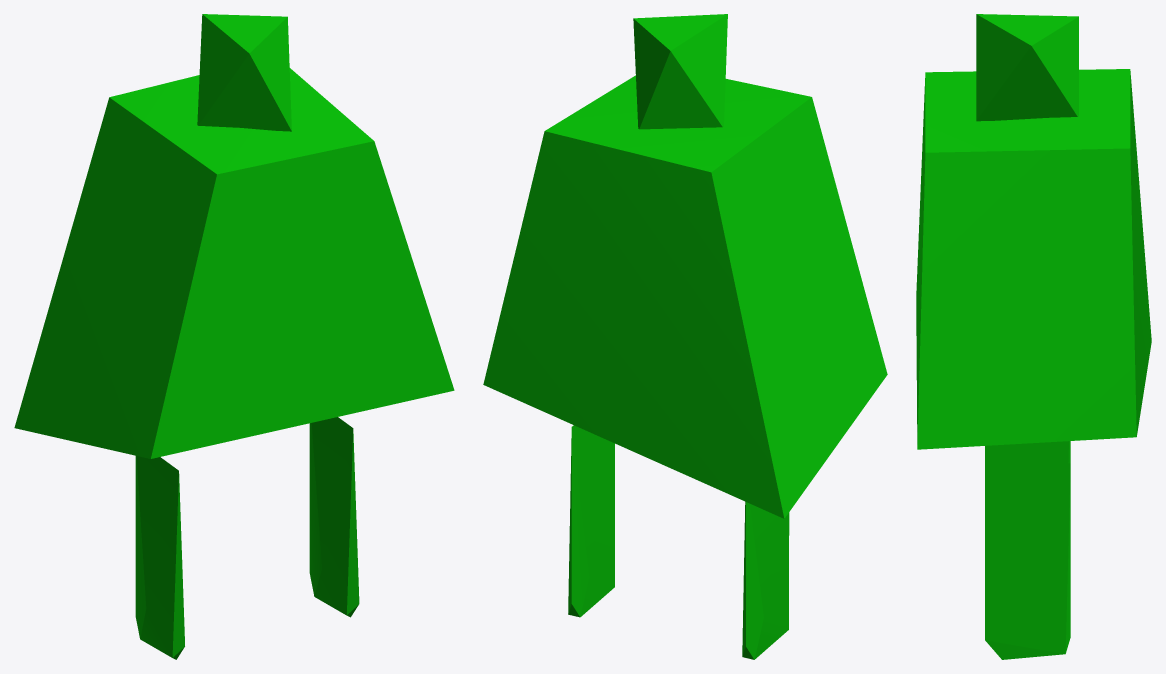
Rendered from UCX_Plug.fbx.
3 renders of one model, left to right at view 1: azimuth 30°, elevation 25°; view 2: azimuth 150°, elevation 25°; view 3: azimuth 270°, elevation 25°, orthographic.
Parts seen in each view (by area): view 1: UCX_Plug; view 2: UCX_Plug; view 3: UCX_Plug.
Part boxes in pixels (x1,y1,x2,y2): UCX_Plug: (14,14,454,659); UCX_Plug: (483,14,887,659); UCX_Plug: (916,14,1151,659).
Bounding box in the file's own units: 0.0224 × 0.04 × 0.0145.
